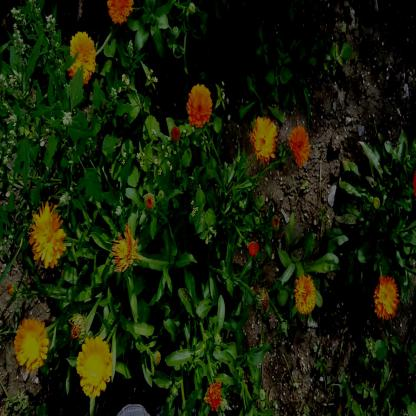marigold: (29, 205, 64, 266), (78, 337, 110, 395), (65, 30, 98, 85), (13, 316, 46, 366), (114, 226, 141, 271), (252, 116, 276, 160), (186, 86, 212, 126), (374, 274, 398, 316), (294, 274, 316, 313), (288, 124, 310, 160), (106, 0, 134, 25)
